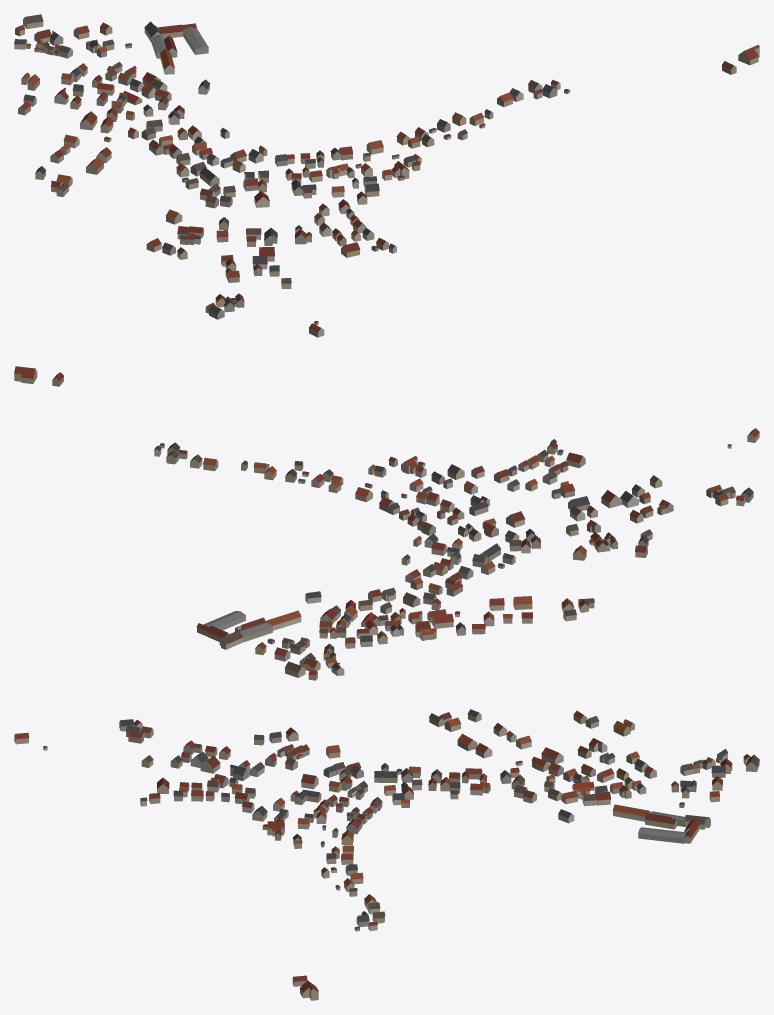
The picture shows the model from 3 angles, top to bottom: view 1: azimuth 30°, elevation 25°; view 2: azimuth 150°, elevation 25°; view 3: azimuth 270°, elevation 25°; orthographic projection.
Parts seen in each view (by area): view 1: buildings; view 2: buildings; view 3: buildings.
Boxes of the visible parts, x1=… form: buildings: x1=14, y1=14, x2=759, y2=337; buildings: x1=14, y1=366, x2=759, y2=680; buildings: x1=14, y1=709, x2=759, y2=1000.
Size of the model in its own units: 740 by 52.44 by 754.
